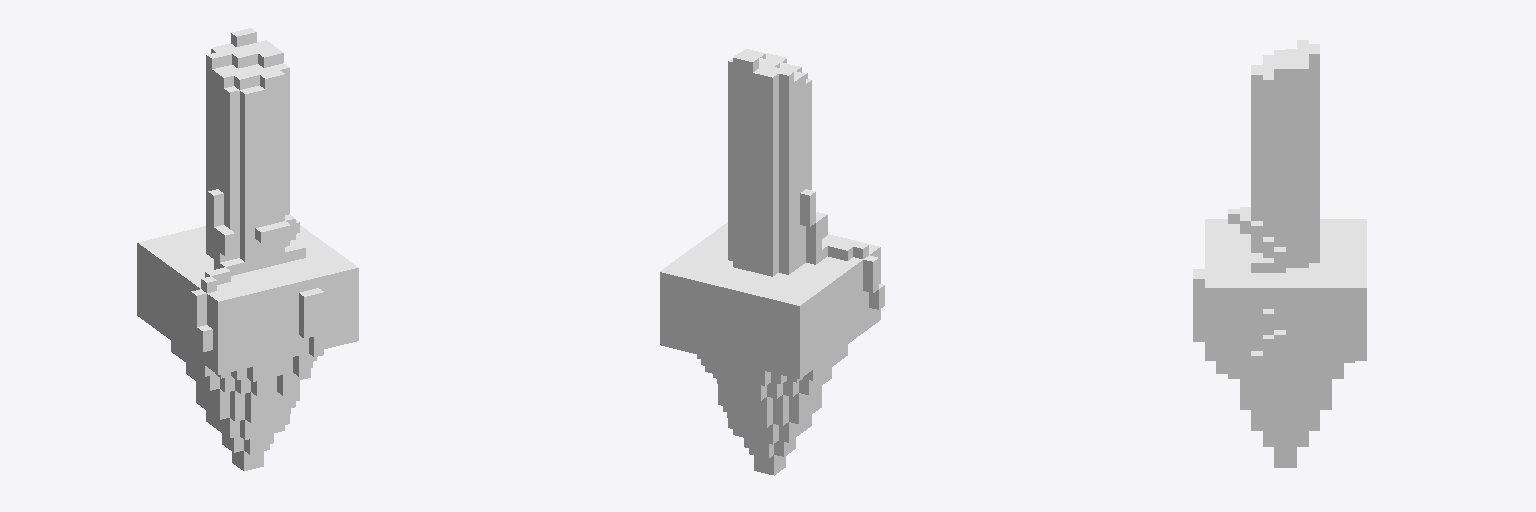
The model's file is drillBroken-0.obj.
The picture shows the model from 3 angles: view 1: azimuth 30°, elevation 25°; view 2: azimuth 150°, elevation 25°; view 3: azimuth 270°, elevation 25°; orthographic projection.
Visible parts, largest first — view 1: object 1; view 2: object 1; view 3: object 1.
Boxes of the visible parts, x1=… form: object 1: x1=137, y1=28, x2=358, y2=470; object 1: x1=660, y1=49, x2=884, y2=475; object 1: x1=1193, y1=40, x2=1366, y2=467.
Size of the model in its own units: 1.7 by 4 by 1.5.